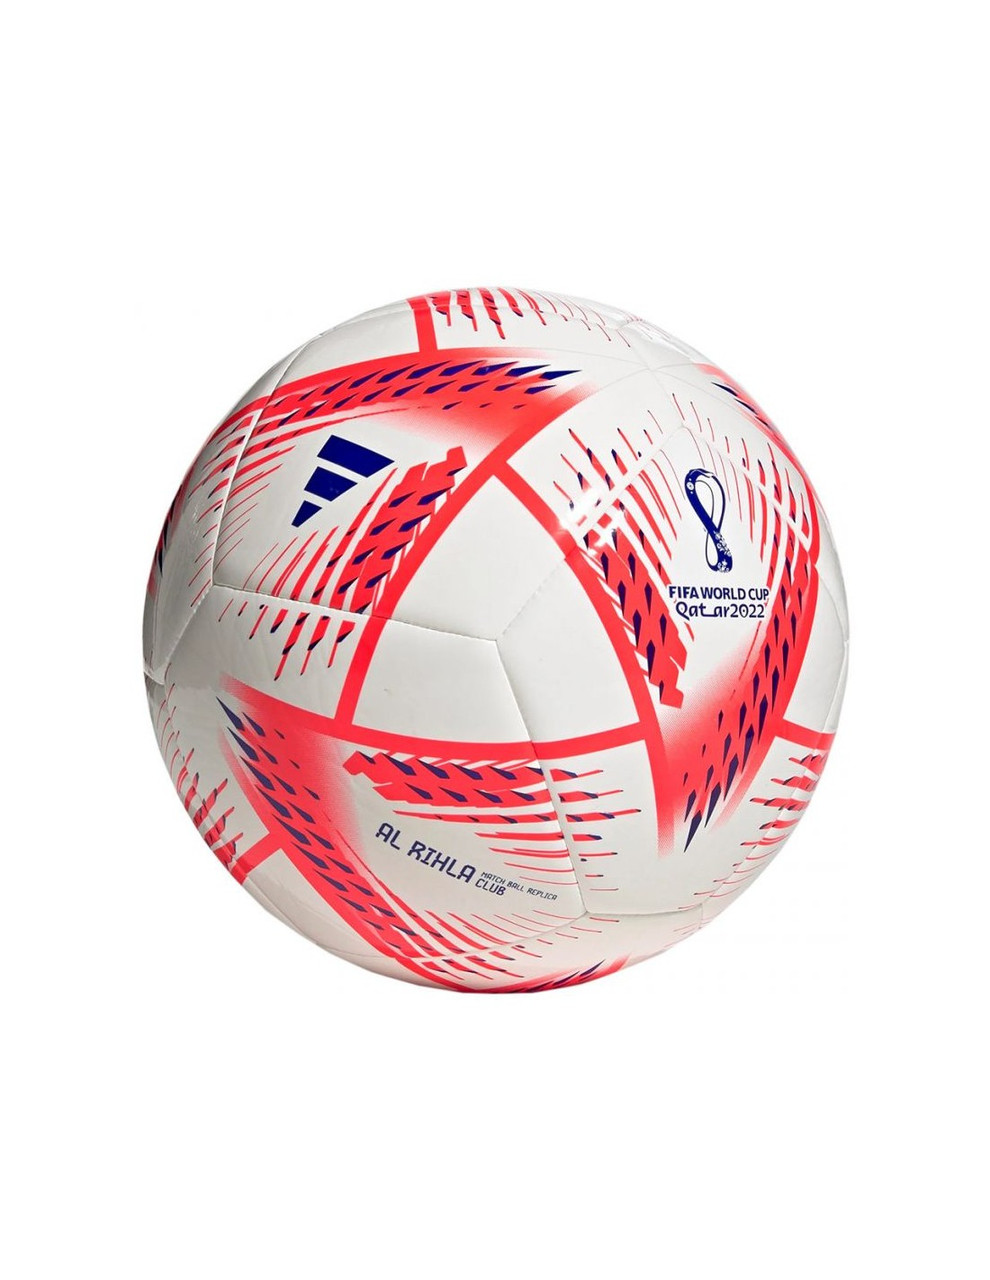ball: (145, 288, 848, 995)
